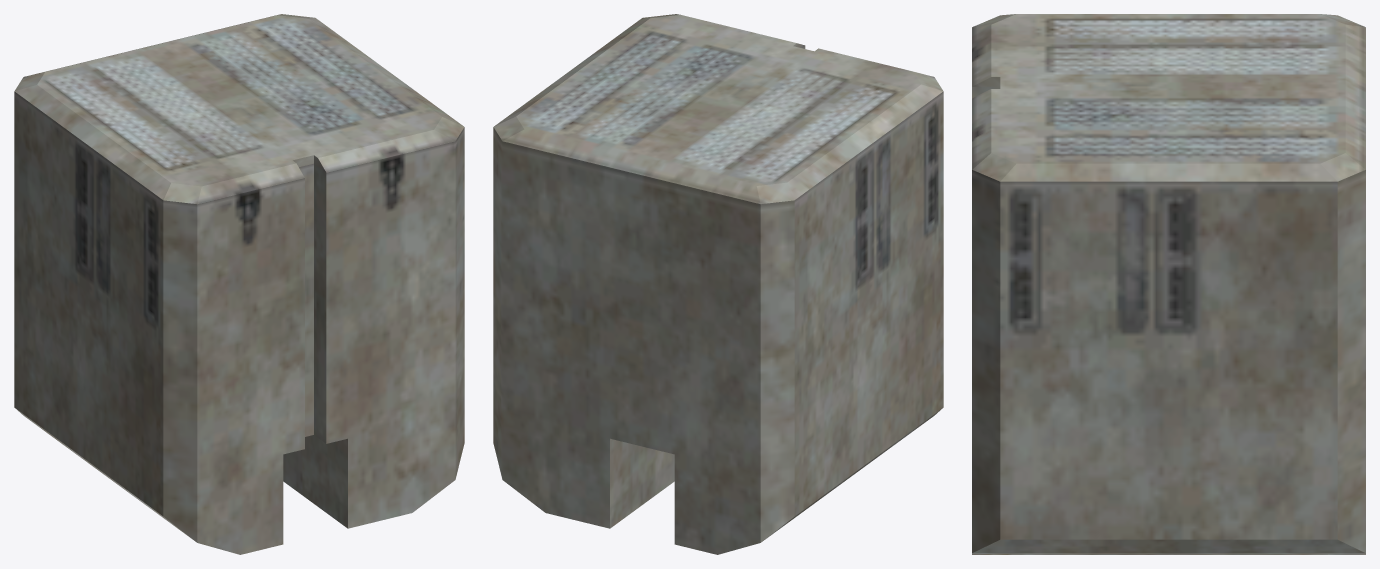
Rendered from thm_tato_debris_s05_l0.fbx.
The picture shows the model from 3 angles, left to right: view 1: azimuth 30°, elevation 25°; view 2: azimuth 150°, elevation 25°; view 3: azimuth 270°, elevation 25°; orthographic projection. The views are drawn at different scales.
Visible parts, largest first — view 1: mesh_node; view 2: mesh_node; view 3: mesh_node.
Part boxes in pixels (bbox=[...]): mesh_node: bbox=[14, 14, 464, 554]; mesh_node: bbox=[493, 14, 943, 554]; mesh_node: bbox=[972, 14, 1365, 554].
Bounding box in the file's own units: 0.7548 × 0.8855 × 0.7548.
Materials: 1 (1 with a texture image).
